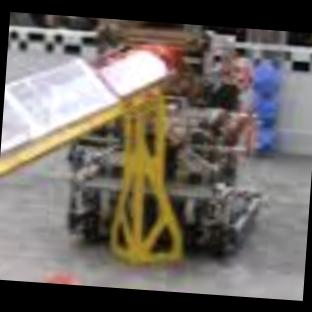Robot: (139, 99, 260, 257), (67, 127, 132, 250)
